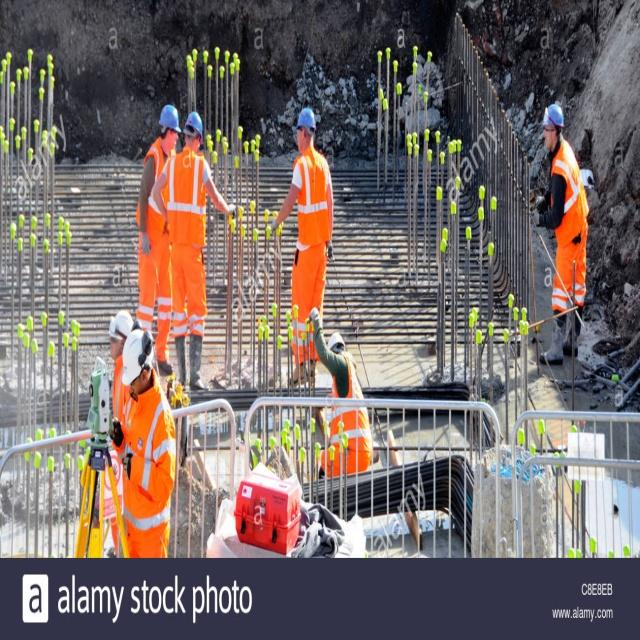helmet: (119, 436, 157, 536), (107, 409, 135, 483), (156, 135, 180, 208), (541, 132, 565, 204), (181, 142, 203, 206), (296, 139, 317, 204), (326, 439, 346, 476)
vest: (327, 486, 375, 614), (124, 525, 173, 640), (166, 211, 211, 336), (297, 199, 336, 337), (551, 195, 590, 329), (139, 190, 170, 306)
